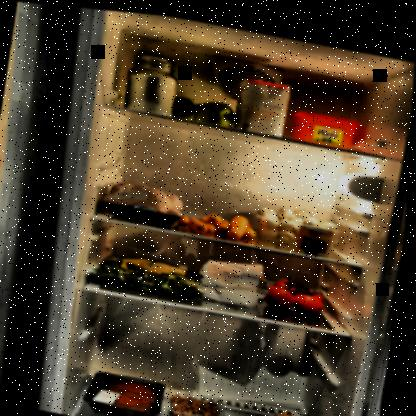apple: (165, 89, 243, 127)
beef: (85, 366, 172, 415)
butter: (287, 101, 365, 145)
carrot: (179, 201, 262, 240)
cheese: (263, 401, 319, 415)
chicken: (103, 174, 191, 226)
corn: (298, 218, 337, 252)
mushrooms: (253, 194, 344, 244)
shrimp: (169, 388, 227, 415)
spinach: (96, 245, 218, 301)
tomato: (266, 266, 332, 311)
